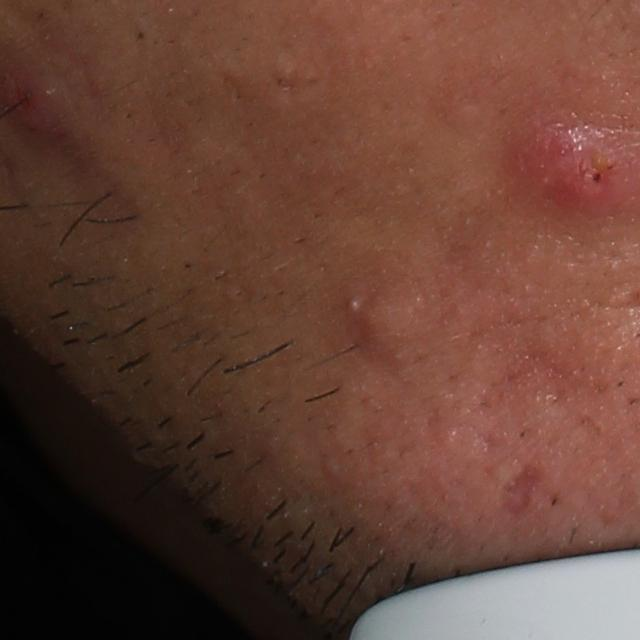atrophic_scar: (438, 223, 622, 451), (491, 462, 544, 516)
comedo: (343, 294, 361, 311)
papule: (354, 298, 415, 365)
